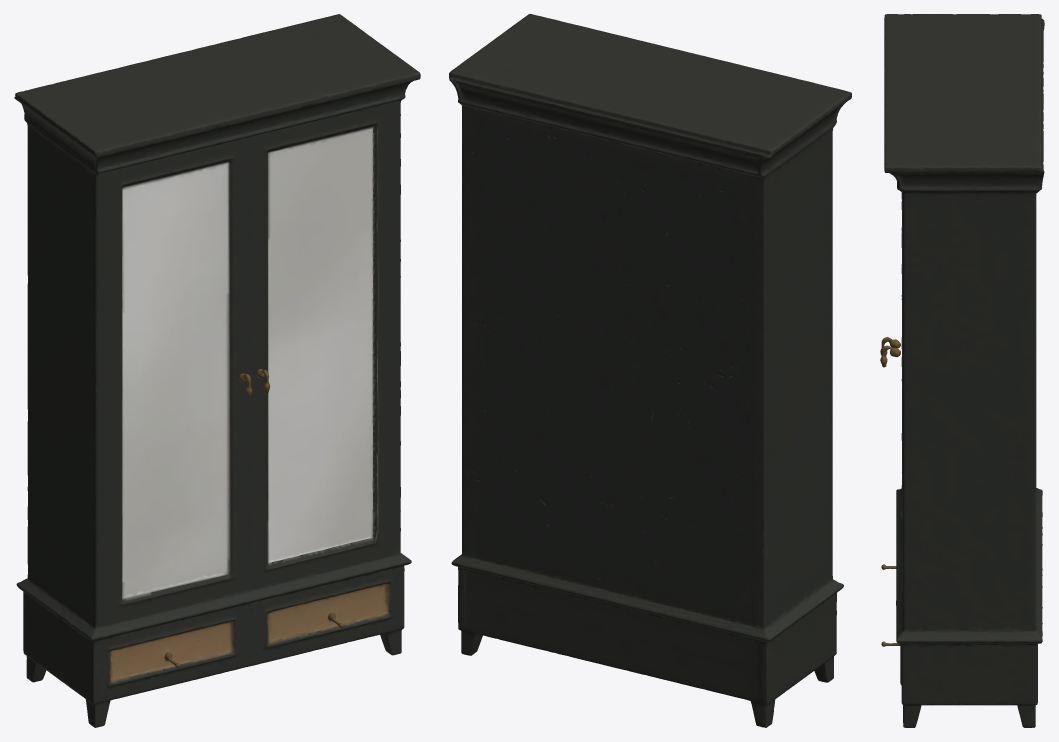
File: platform-bed.glb
The picture shows the model from 3 angles, left to right: view 1: azimuth 30°, elevation 25°; view 2: azimuth 150°, elevation 25°; view 3: azimuth 270°, elevation 25°; orthographic projection. The views are drawn at different scales.
Visible parts, largest first — view 1: world; view 2: world; view 3: world.
Boxes of the visible parts, left/top/right/bottom form: world: left=14, top=14, right=420, bottom=727; world: left=449, top=14, right=851, bottom=727; world: left=880, top=14, right=1044, bottom=727.
Bounding box in the file's own units: 0.5823 × 1 × 0.2636.
1 material, 1 textured.
